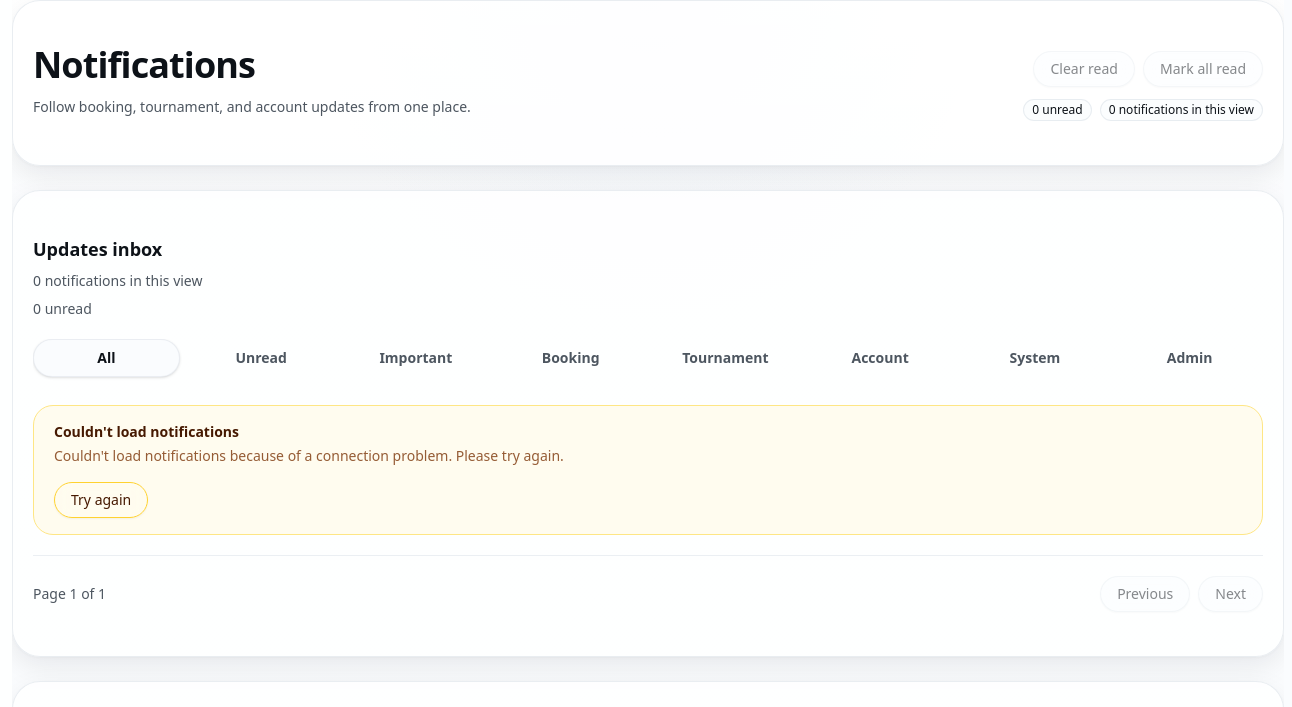
Test case: NotificationsPage › shows a retry state when notifications fail to load and recovers after retry
expect the text "Couldn't load notifications" is shown: met, box [54,422,239,441]
Click the button "Try again": coordinates (101, 500) [54,482,148,518]
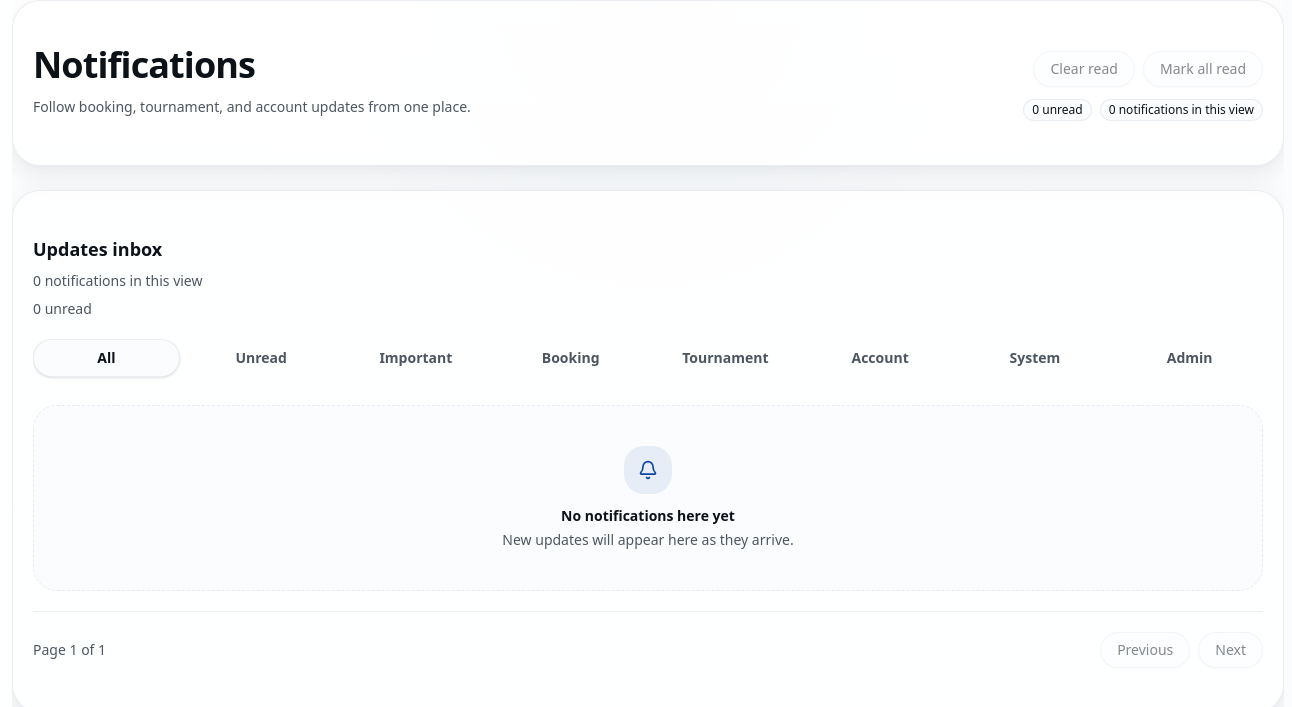
expect the text "No notifications here yet" is shown: met, box [561,506,735,526]
